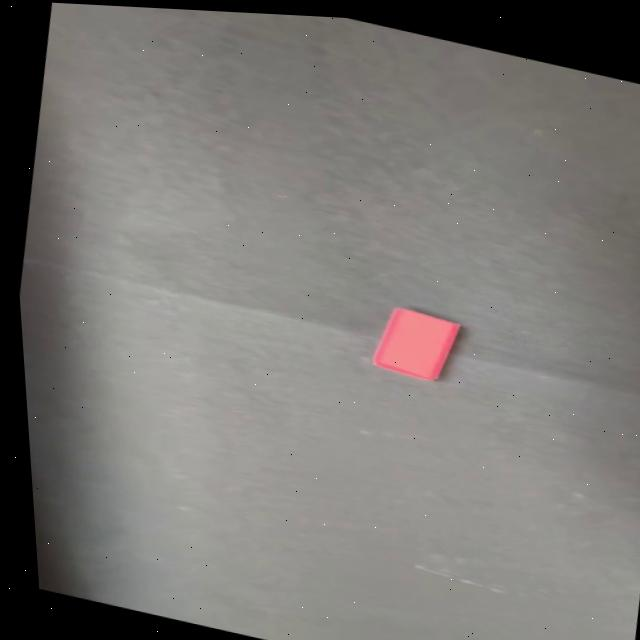red block: (367, 301, 468, 387)
